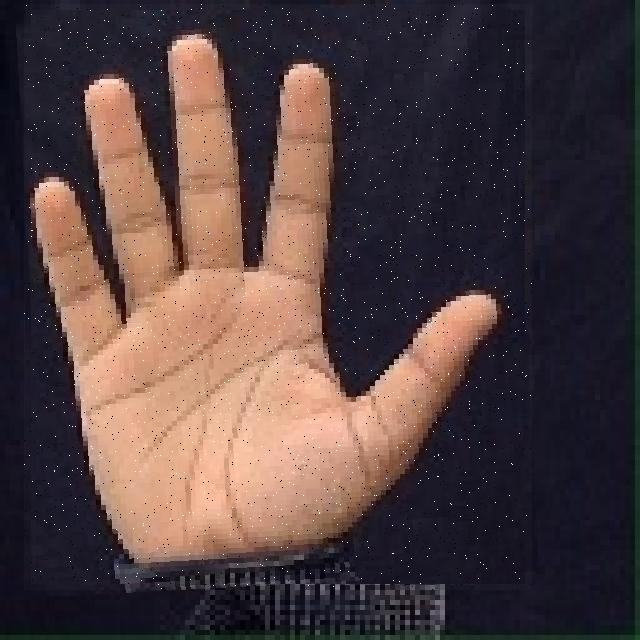Yes: (24, 4, 532, 590)
